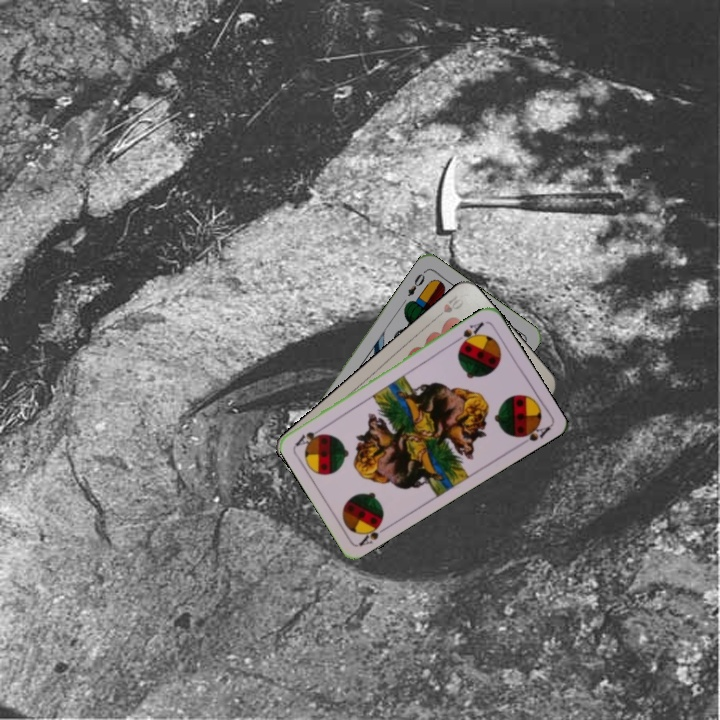EO: (403, 267, 428, 299)
H10: (431, 290, 466, 322)
SA: (355, 515, 392, 549), (451, 318, 487, 349)
